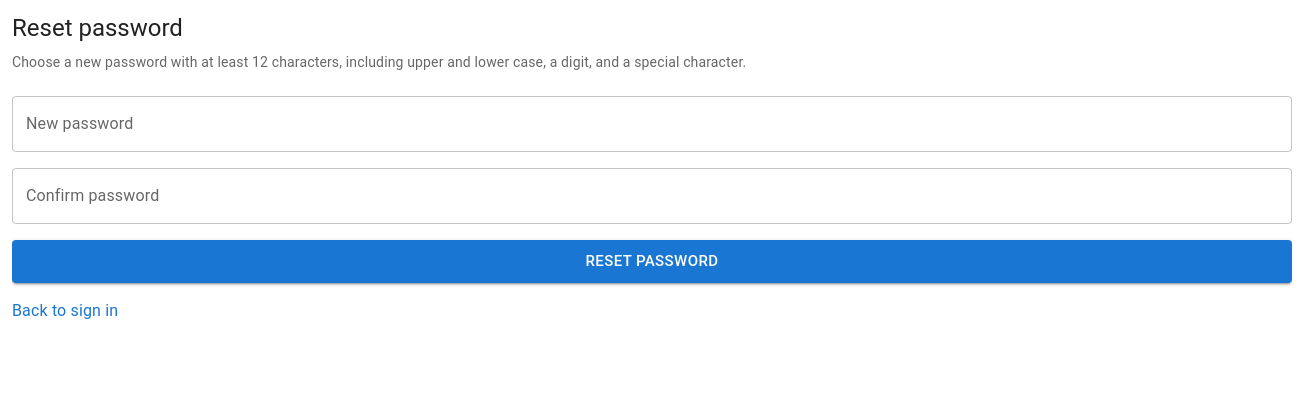
Test: account recovery pages › shows an expired token error from the API
Type "Str0ng!Pass12" into the password field labelled "New password" at (652, 124), box top-left (12, 96), bottom-right (1292, 152)
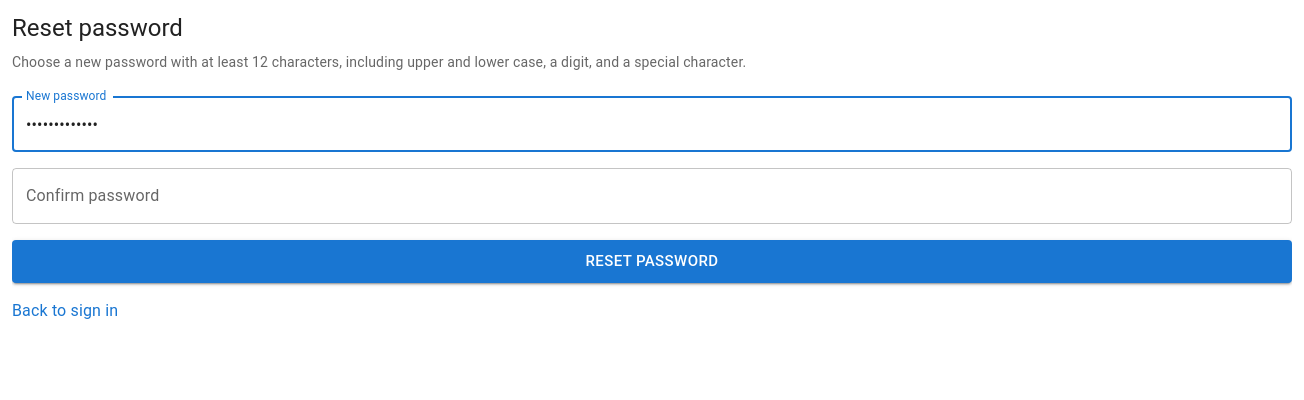
Type "Str0ng!Pass12" into the password field labelled "Confirm password" at (652, 196), box top-left (12, 168), bottom-right (1292, 224)
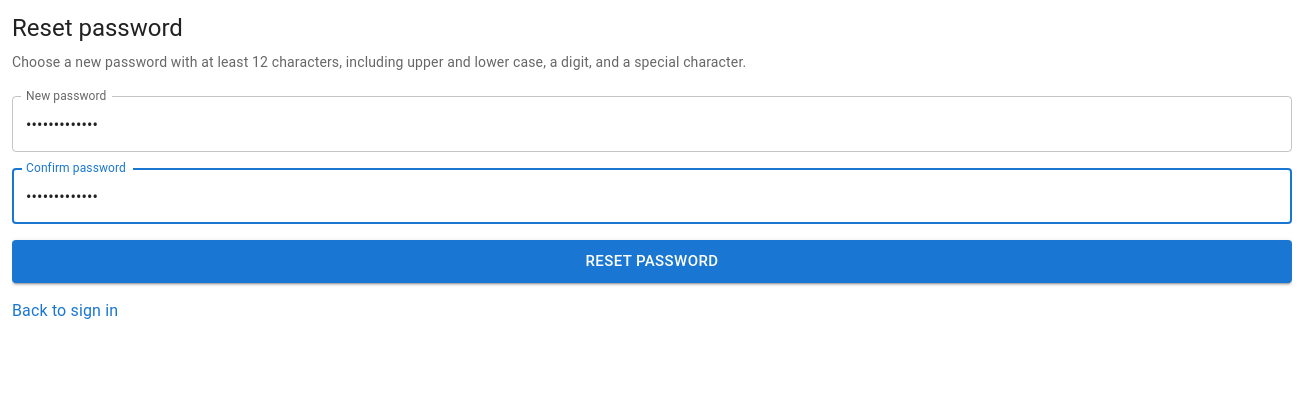
Click the button "Reset password" at (652, 262), box top-left (12, 240), bottom-right (1292, 283)
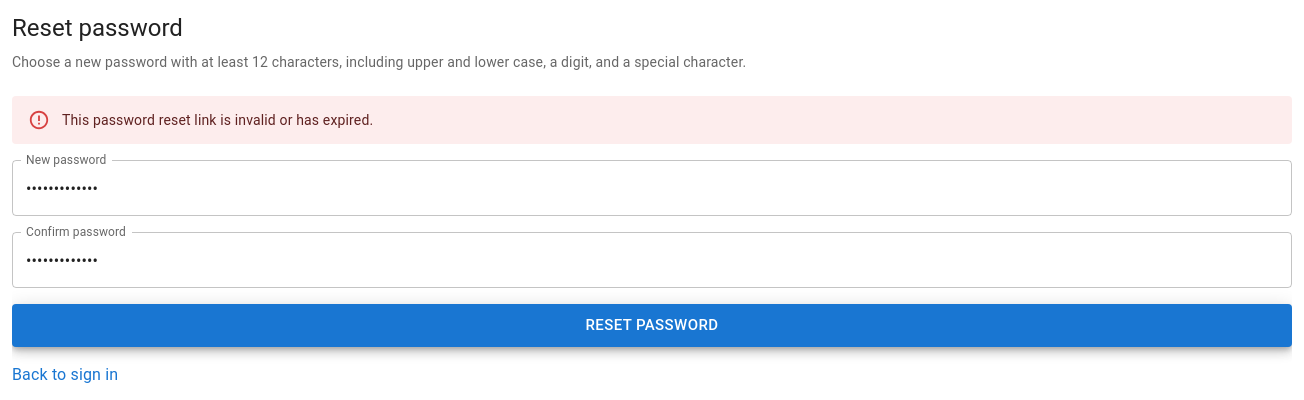
Result: the text "This password reset link is invalid or has expired." is shown at top-left (62, 112), bottom-right (373, 128)
